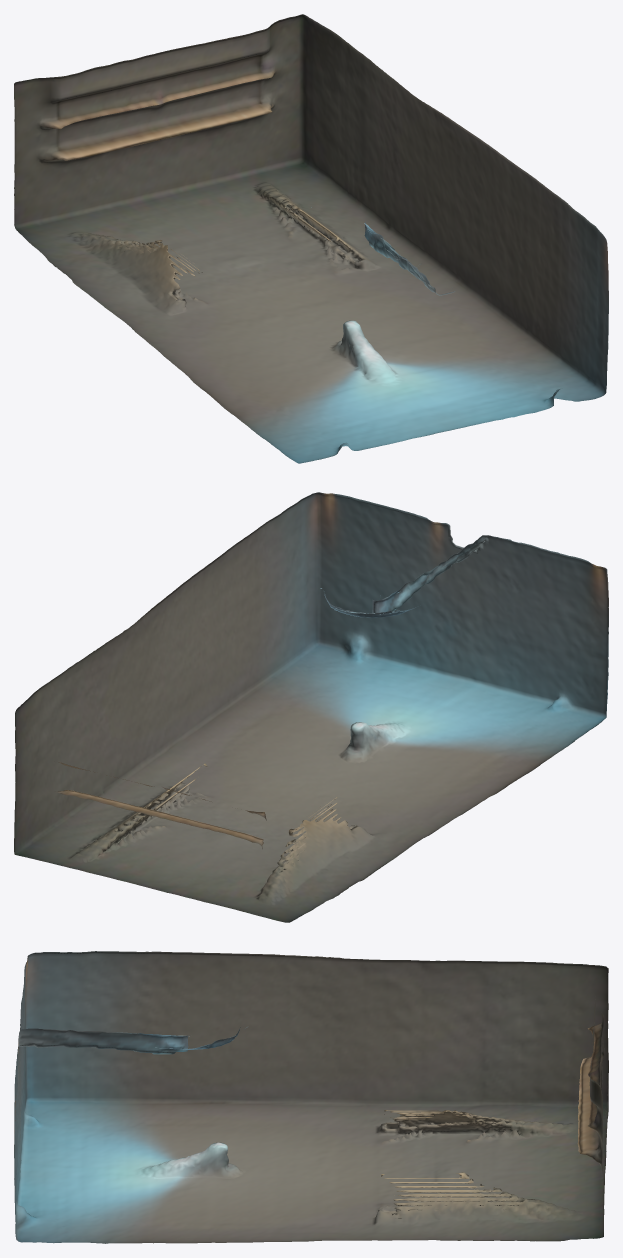
Rendered from collider.glb.
The picture shows the model from 3 angles, top to bottom: view 1: azimuth 30°, elevation 25°; view 2: azimuth 150°, elevation 25°; view 3: azimuth 270°, elevation 25°; orthographic projection. The views are drawn at different scales.
Visible parts, largest first — view 1: world; view 2: world; view 3: world.
Part boxes in pixels (box(x1,y1,x2,y2)): world: box(14, 14, 608, 463); world: box(14, 492, 608, 922); world: box(14, 951, 608, 1243).
Size of the model in its own units: 3.63 by 1.83 by 6.24.
